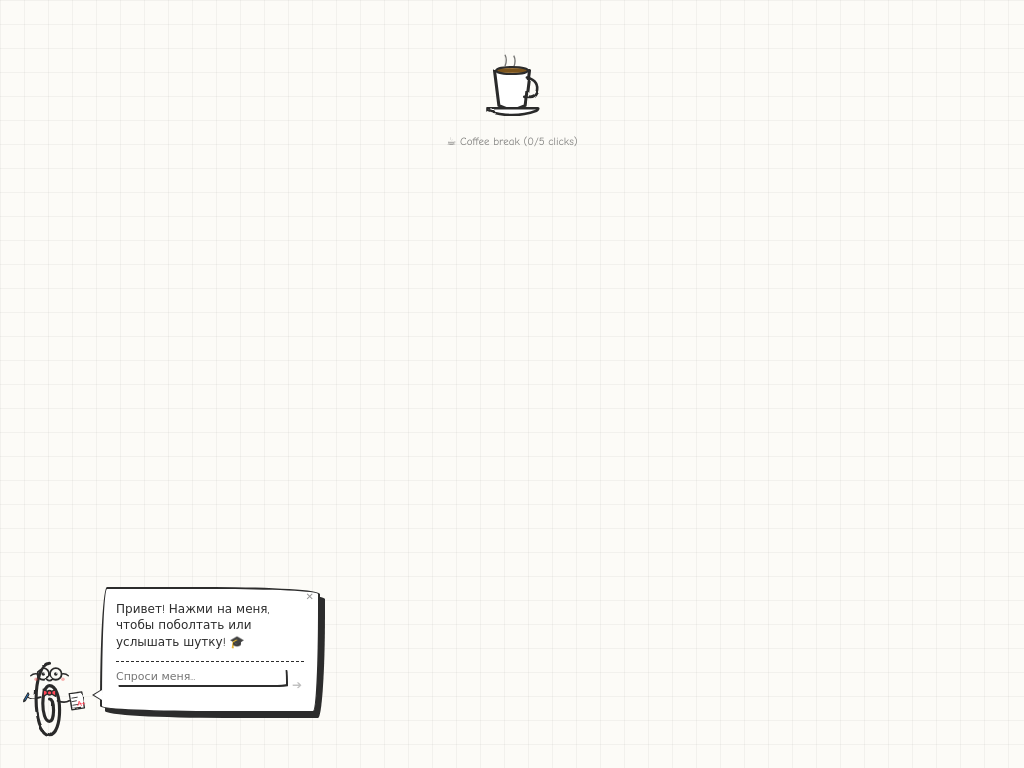
Scenario: Frontend Login-to-Dashboard Integration Flow › Doodly Helper and Interactive Components Integration › updates Doodly Helper bubble when coffee is spilled
Expected: the text "Привет! Нажми на меня, чтобы поболтать или услышать шутку! 🎓" is shown, [116,602,270,649]
Click the button named "Coffee cup. Click to slosh coffee (clicked 0 of 5 times)" at point(512, 90), box [477,52,547,126]
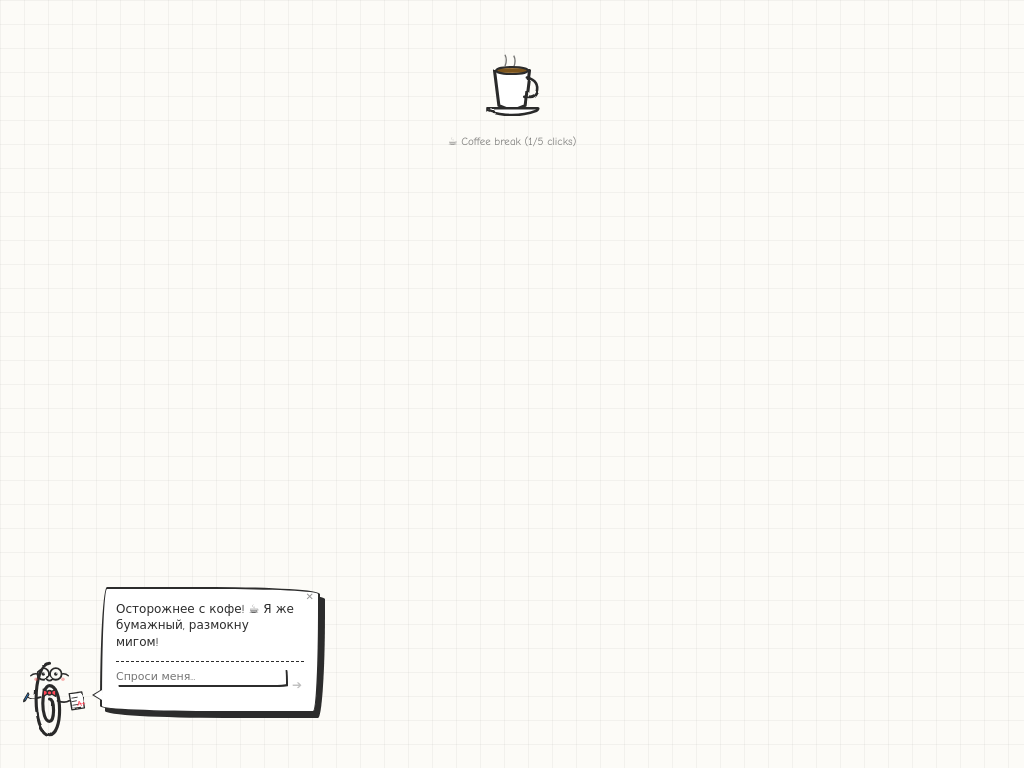
Click the button named "Coffee cup. Click to slosh coffee (clicked 1 of 5 times)" at point(512, 90), box [477,52,547,126]
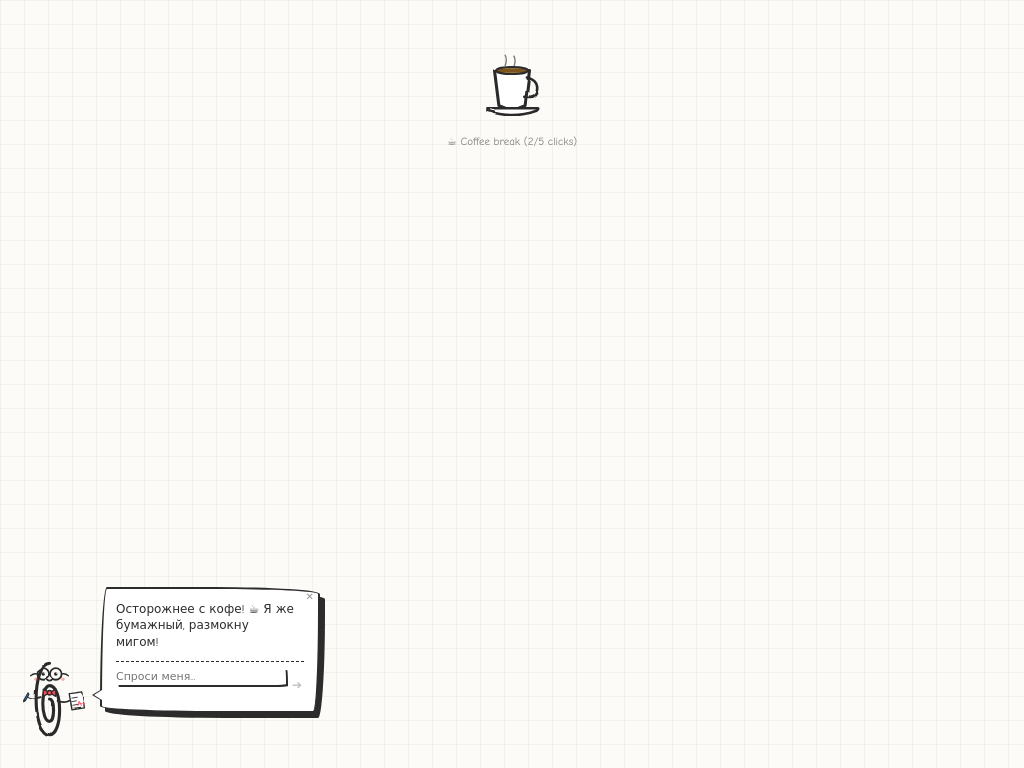
Click the button named "Coffee cup. Click to slosh coffee (clicked 2 of 5 times)" at point(512, 90), box [477,52,547,126]
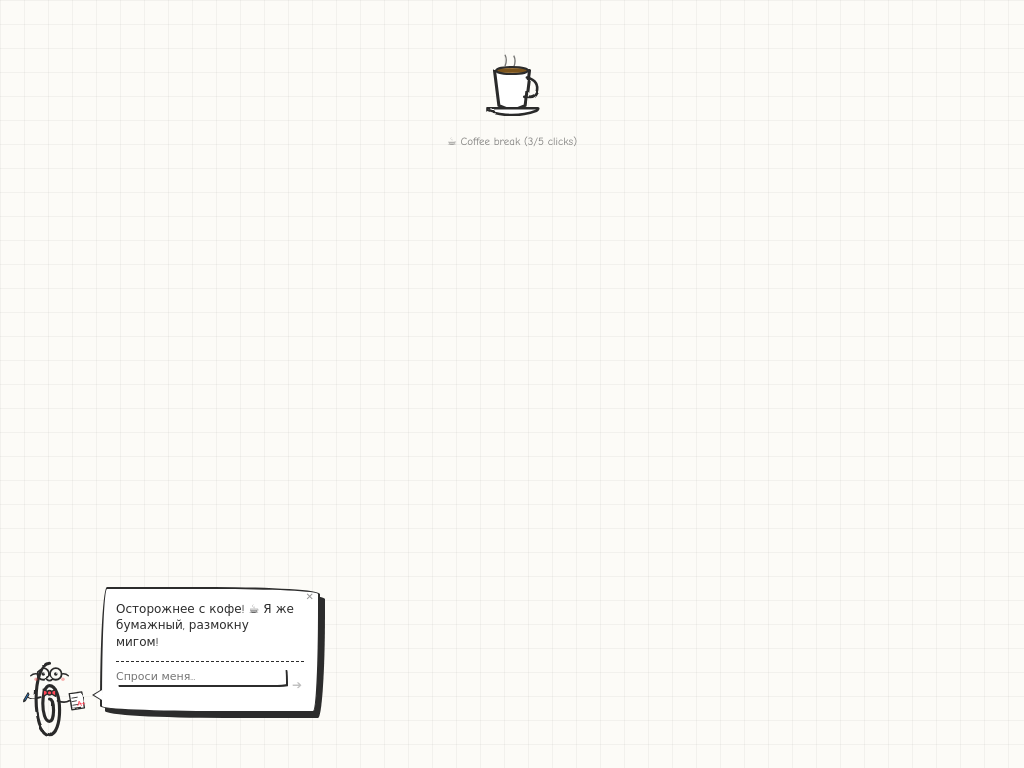
Click the button named "Coffee cup. Click to slosh coffee (clicked 3 of 5 times)" at point(512, 90), box [477,52,547,126]
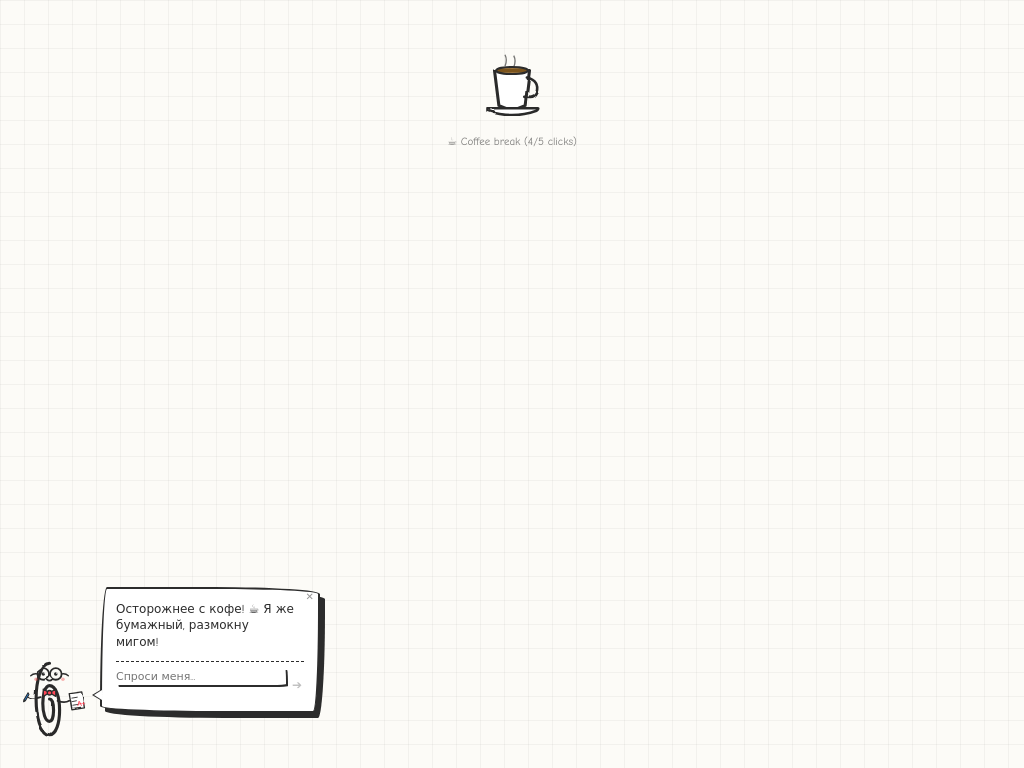
Click the button named "Coffee cup. Click to slosh coffee (clicked 4 of 5 times)" at point(512, 90), box [477,52,547,126]
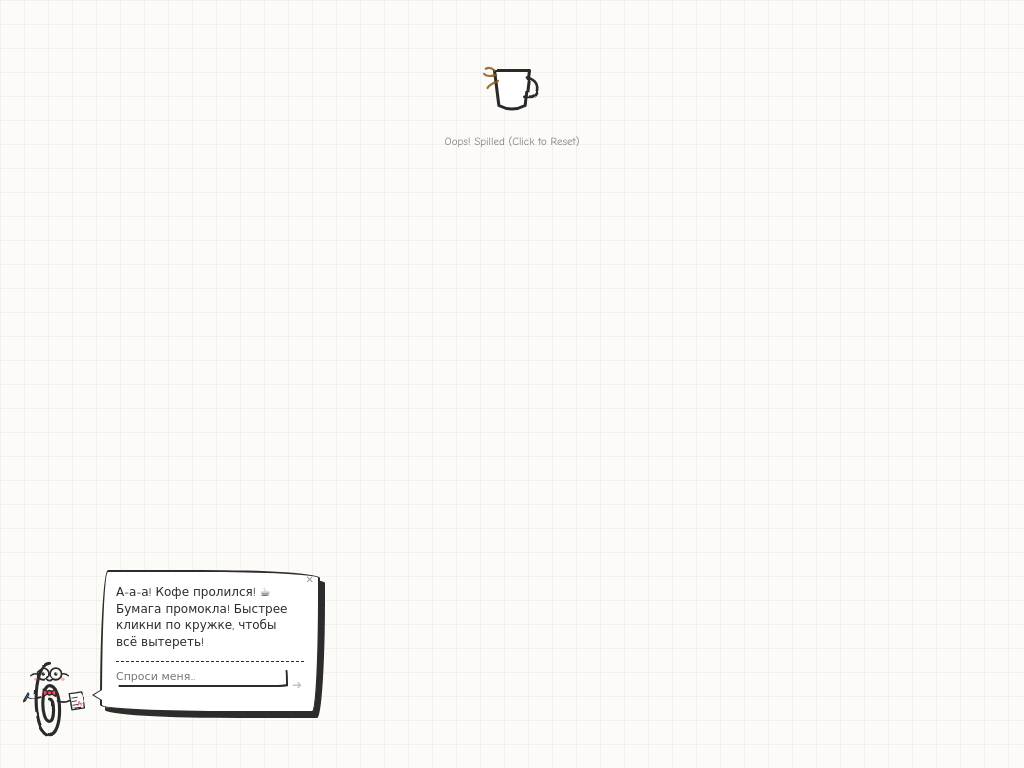
Expected: the text "Кофе пролился" is shown, [116,585,288,649]
